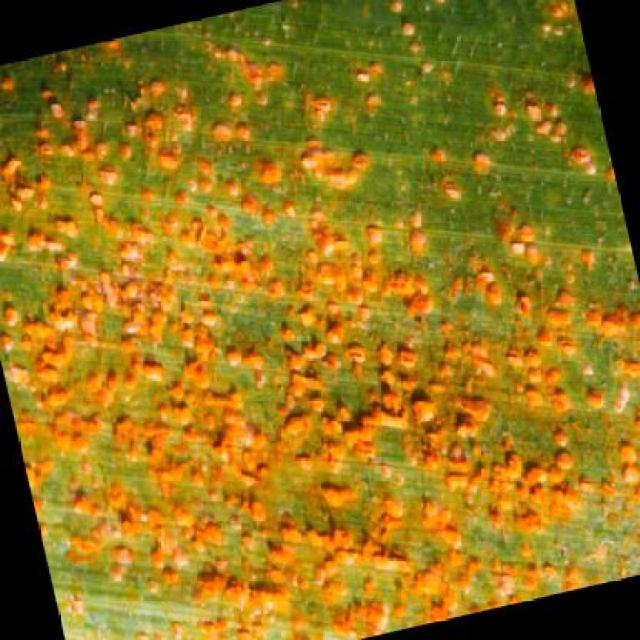Corn_Rust: (76, 49, 586, 588)
